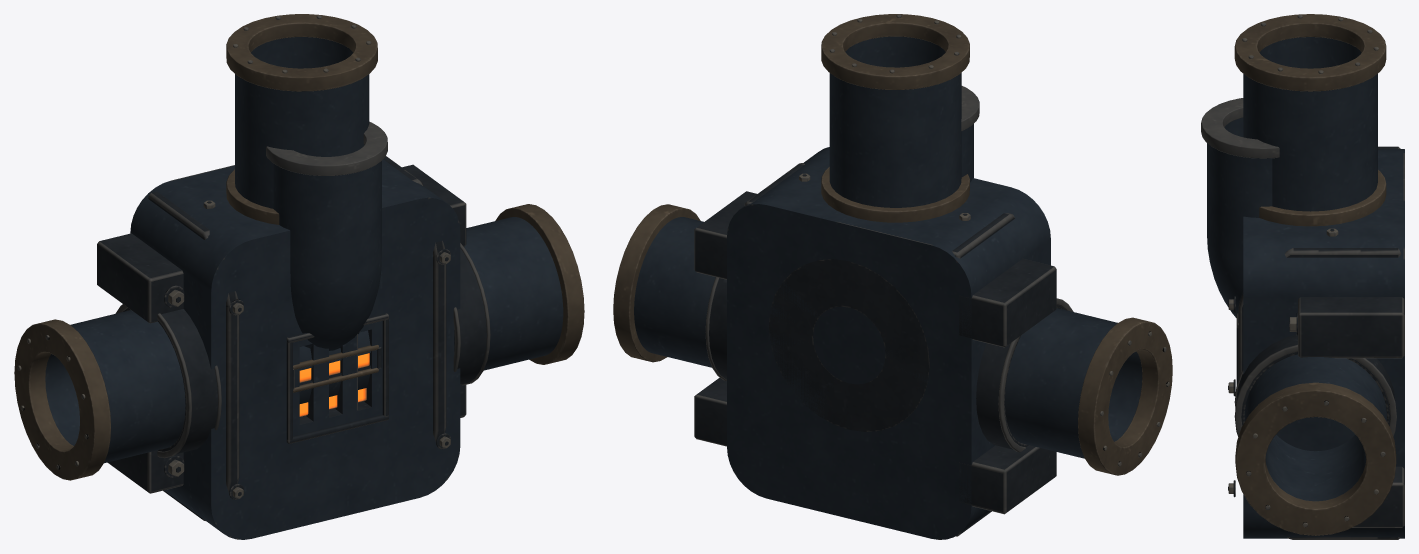
File: chapter3-props-optimized.glb
The picture shows the model from 3 angles, left to right: view 1: azimuth 30°, elevation 25°; view 2: azimuth 150°, elevation 25°; view 3: azimuth 270°, elevation 25°; orthographic projection.
Parts seen in each view (by area): view 1: exhaust_vent, side_conduit, elbow_pipe; view 2: exhaust_vent, side_conduit, elbow_pipe; view 3: exhaust_vent, side_conduit, elbow_pipe.
Boxes of the visible parts, bbox=[...] form: exhaust_vent: bbox=[130, 14, 460, 539]; side_conduit: bbox=[14, 164, 584, 493]; elbow_pipe: bbox=[266, 121, 387, 350]; exhaust_vent: bbox=[727, 14, 1050, 539]; side_conduit: bbox=[613, 191, 1172, 514]; elbow_pipe: bbox=[768, 86, 979, 431]; exhaust_vent: bbox=[1228, 14, 1404, 539]; side_conduit: bbox=[1234, 297, 1404, 535]; elbow_pipe: bbox=[1201, 98, 1279, 317].
Bounding box in the file's own units: 0.866 × 0.753 × 0.309.
1 material, 1 textured.
